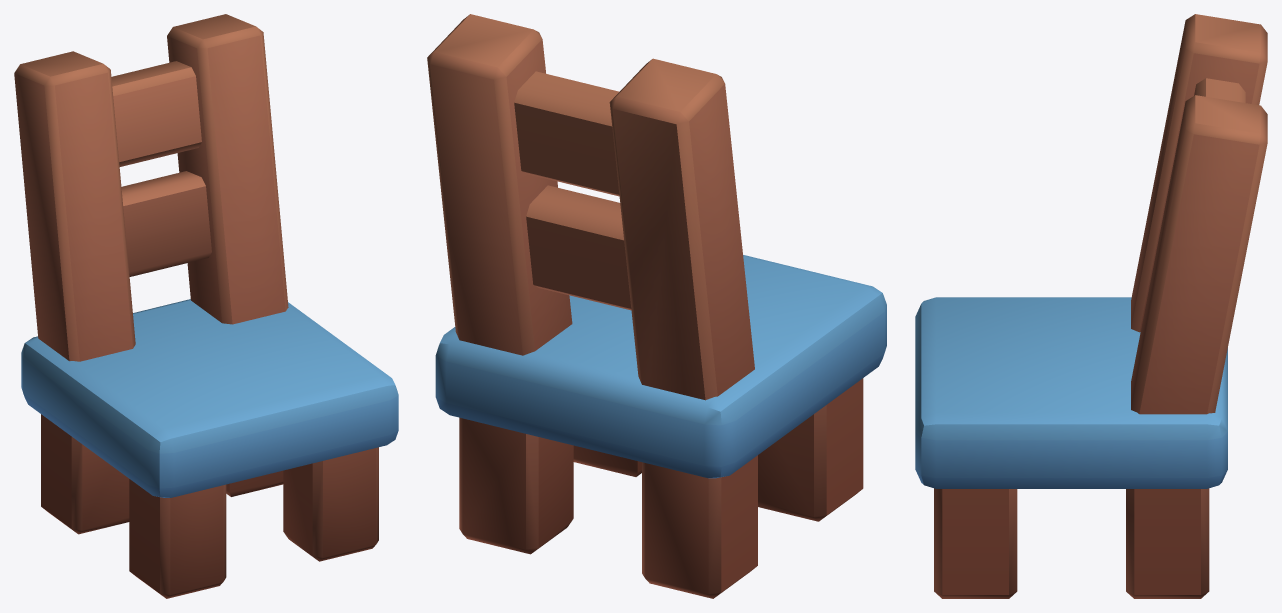
The picture shows the model from 3 angles, left to right: view 1: azimuth 30°, elevation 25°; view 2: azimuth 150°, elevation 25°; view 3: azimuth 270°, elevation 25°; orthographic projection. The views are drawn at different scales.
Parts seen in each view (by area): view 1: chair_A; view 2: chair_A; view 3: chair_A.
Boxes of the visible parts, x1,y1,x2,y2 form: chair_A: [14, 14, 398, 598]; chair_A: [427, 14, 886, 598]; chair_A: [915, 14, 1267, 598].
Size of the model in its own units: 0.75 by 1.26 by 0.8451.
Materials: 1 (1 with a texture image).
